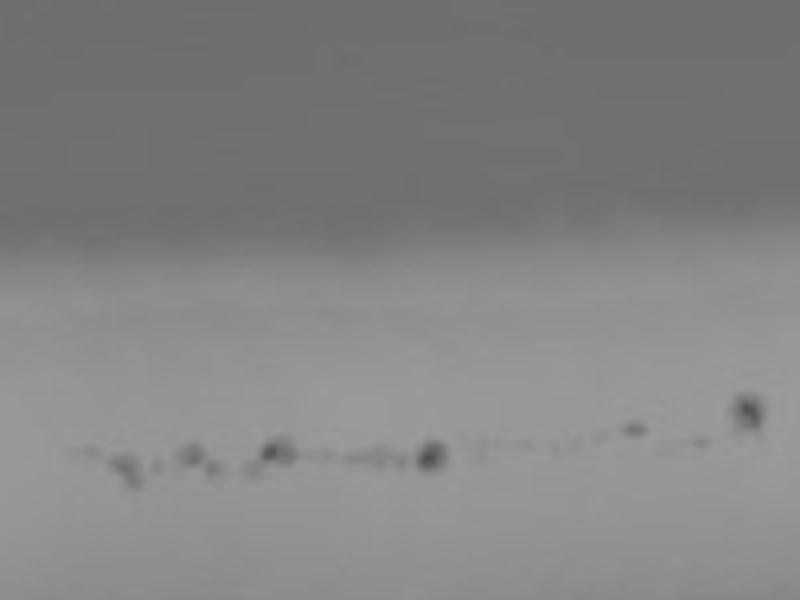defect: (725, 388, 765, 432), (111, 452, 145, 492), (260, 434, 299, 467), (417, 437, 450, 476), (236, 459, 269, 485), (364, 441, 391, 472), (175, 442, 205, 465), (626, 420, 649, 441), (689, 435, 714, 453), (79, 442, 100, 461), (150, 456, 164, 480), (395, 450, 408, 475), (205, 460, 222, 478)
